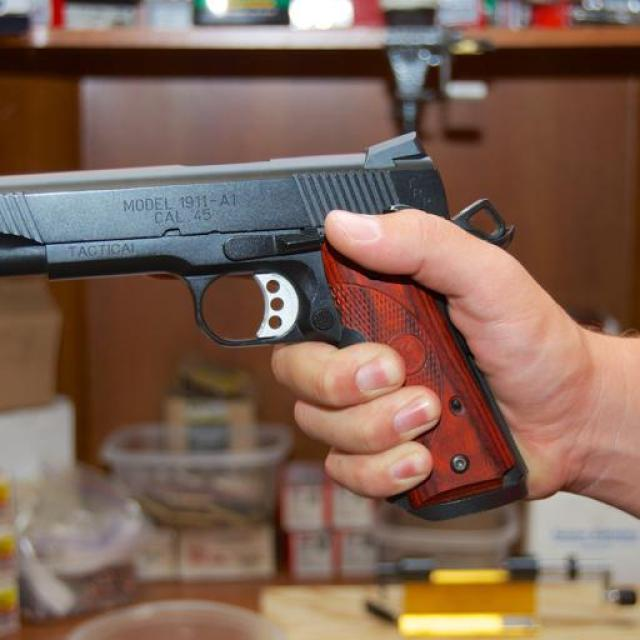pistol: (1, 129, 531, 511)
